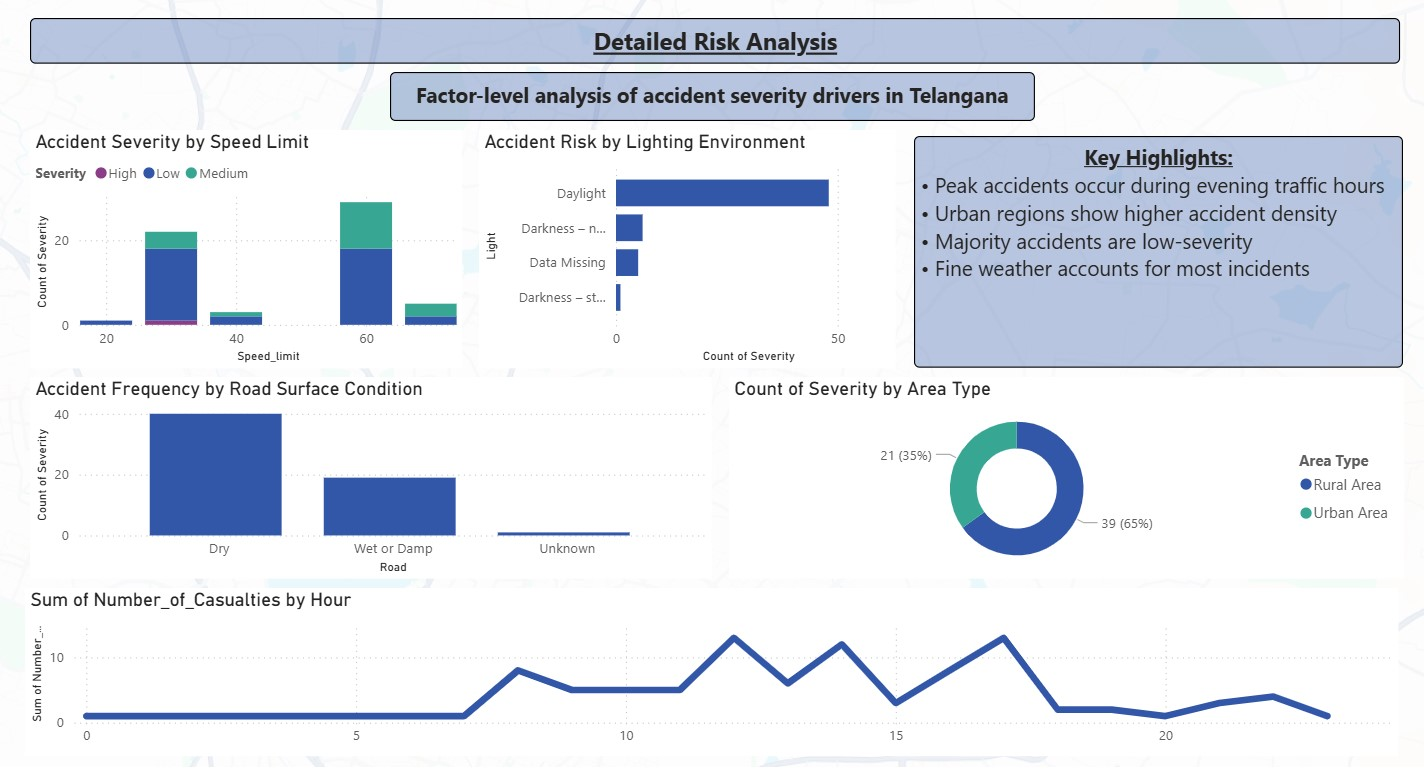

Layout of this report page (visuals, bound fields, positions):
{"tool":"powerbi","page":{"name":"Detailed Analysis","canvas":[1280,720],"ordinal":1},"visuals":[{"type":"textbox","box":[821.8,152,439.1,208.3],"z":0},{"type":"textbox","box":[28.1,46.2,1230.5,40.5],"z":1000},{"type":"columnChart","title":"Accident Severity by Speed Limit","fields":{"Category":["AccidentsBig.Speed_limit"],"Series":["AccidentsBig.Severity"],"Y":["CountNonNull(AccidentsBig.Severity)"]},"box":[28.1,146.4,388.4,213.9],"z":2000},{"type":"clusteredBarChart","title":"Accident Risk by Lighting Environment","fields":{"Y":["CountNonNull(AccidentsBig.Severity)"],"Category":["AccidentsBig.Light"]},"box":[431.2,146.4,373.8,213.9],"z":3000},{"type":"clusteredColumnChart","title":"Accident Frequency by Road Surface Condition","fields":{"Y":["CountNonNull(AccidentsBig.Severity)"],"Category":["AccidentsBig.Road"]},"box":[28.1,368.1,612.4,181.2],"z":3001},{"type":"donutChart","fields":{"Category":["AccidentsBig.Area Type"],"Y":["CountNonNull(AccidentsBig.Severity)"]},"box":[655.2,368.1,605.7,181.2],"z":3002},{"type":"lineChart","fields":{"Category":["AccidentsBig.Hour"],"Y":["Sum(AccidentsBig.Number_of_Casualties)"]},"box":[23.6,557.3,1232.7,150.9],"z":3003},{"type":"textbox","box":[351.2,94.6,578.6,43.9],"z":3004}]}

Visuals, with their boxes on the page's 1280x720 design canvas (x1, y1, x2, y2). These are canvas units, not pixel positions in the 1424x769 screenshot, which may show the page scaled, cropped or inside an application window:
textbox: select_region(822, 152, 1261, 360)
textbox: select_region(28, 46, 1259, 87)
"Accident Severity by Speed Limit" columnChart: select_region(28, 146, 416, 360)
"Accident Risk by Lighting Environment" clusteredBarChart: select_region(431, 146, 805, 360)
"Accident Frequency by Road Surface Condition" clusteredColumnChart: select_region(28, 368, 640, 549)
donutChart - AccidentsBig.Area Type x CountNonNull(AccidentsBig.Severity): select_region(655, 368, 1261, 549)
lineChart - AccidentsBig.Hour x Sum(AccidentsBig.Number_of_Casualties): select_region(24, 557, 1256, 708)
textbox: select_region(351, 95, 930, 138)
